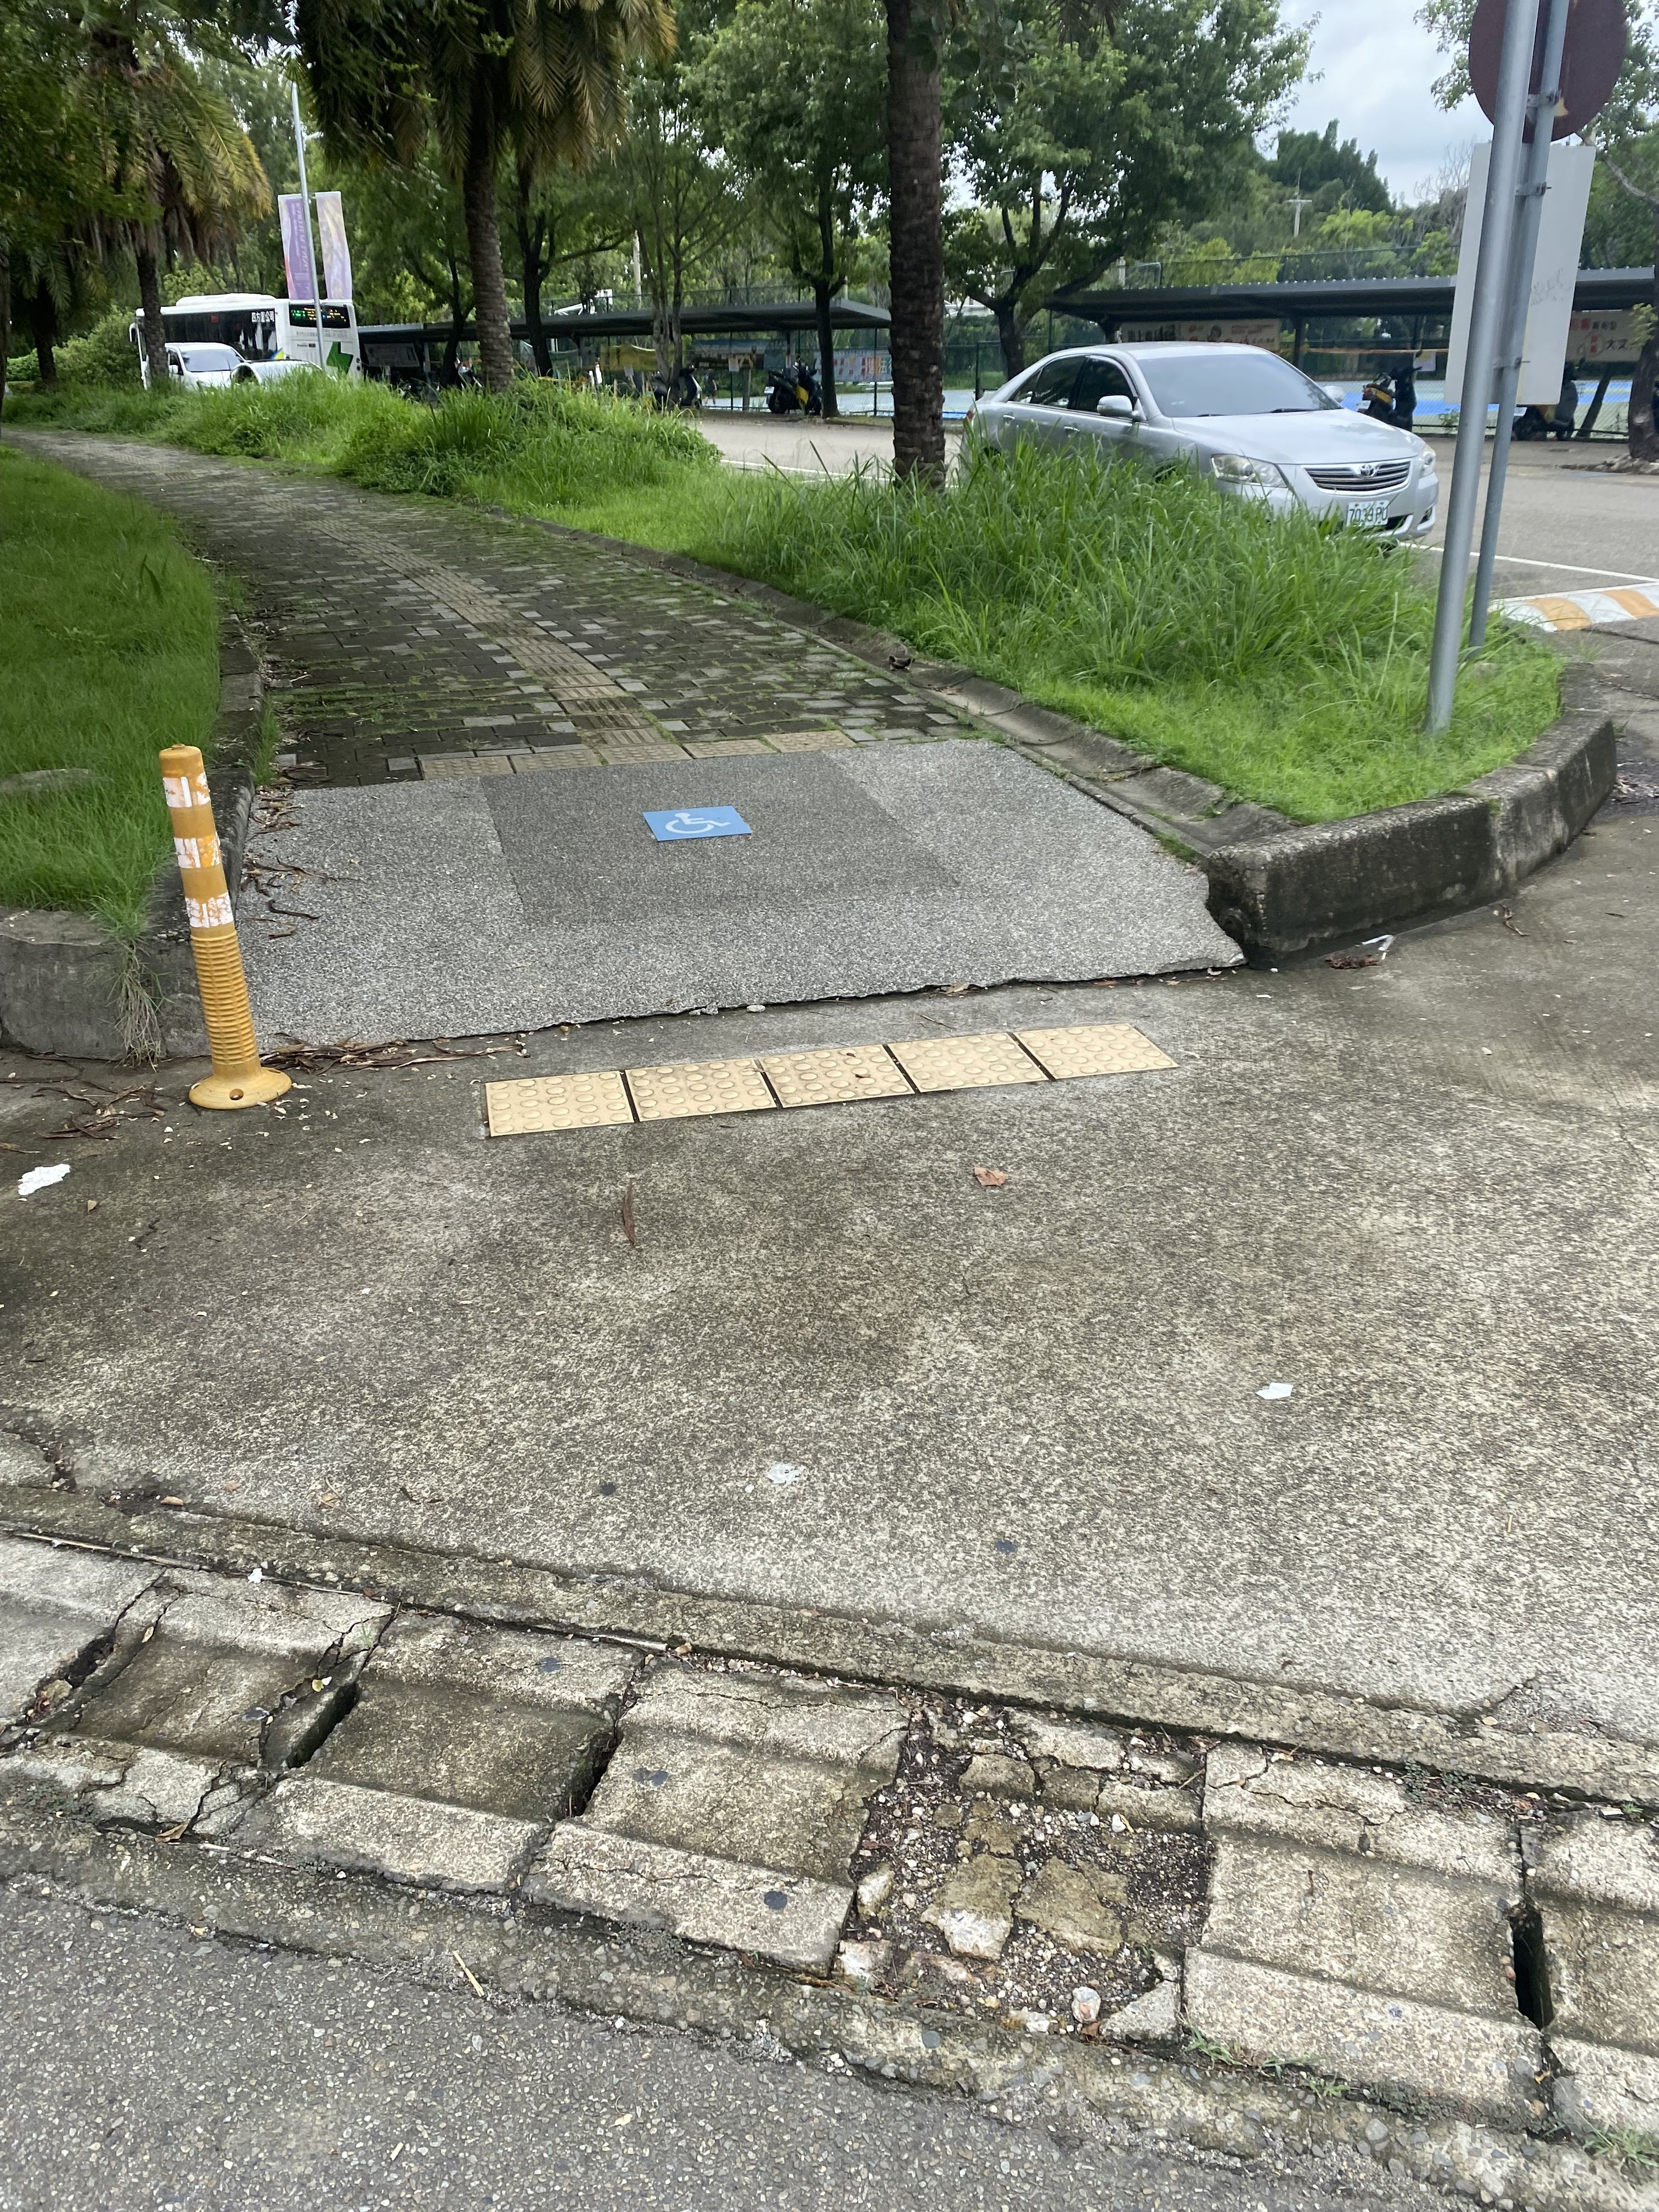sidewalk: (12, 411, 1290, 1132)
